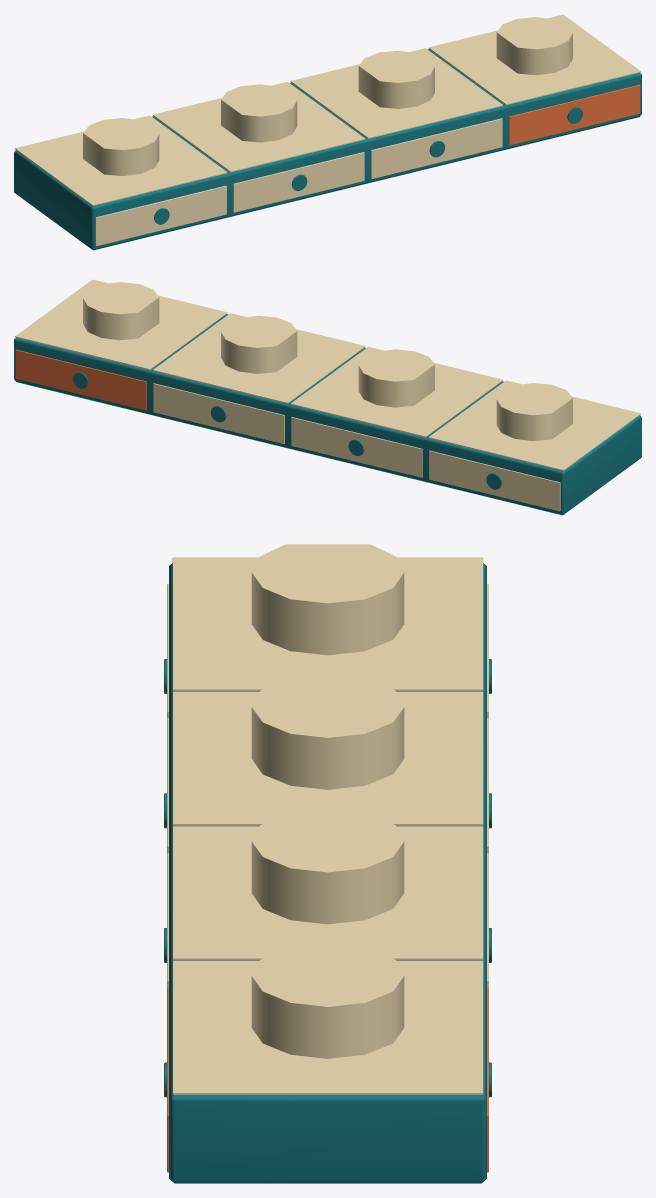
The model's file is beam-lod-1.glb.
3 views of the same model, one above another, from view 1: azimuth 30°, elevation 25°; view 2: azimuth 150°, elevation 25°; view 3: azimuth 270°, elevation 25° (orthographic). The views are drawn at different scales.
Visible parts, largest first — view 1: beam_lod_1; view 2: beam_lod_1; view 3: beam_lod_1.
Boxes of the visible parts, <box> form: beam_lod_1: <box>14,14,641,250</box>; beam_lod_1: <box>14,279,641,515</box>; beam_lod_1: <box>164,544,491,1183</box>.
Bounding box in the file's own units: 4 × 0.5 × 1.03.
